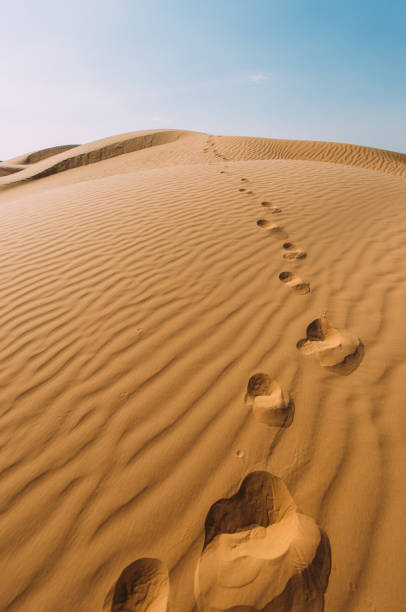human_foot_print: (195, 471, 330, 611), (296, 314, 363, 374), (108, 558, 168, 611), (244, 372, 293, 426), (279, 271, 309, 294), (256, 218, 287, 239), (282, 242, 306, 259), (261, 201, 281, 213)
